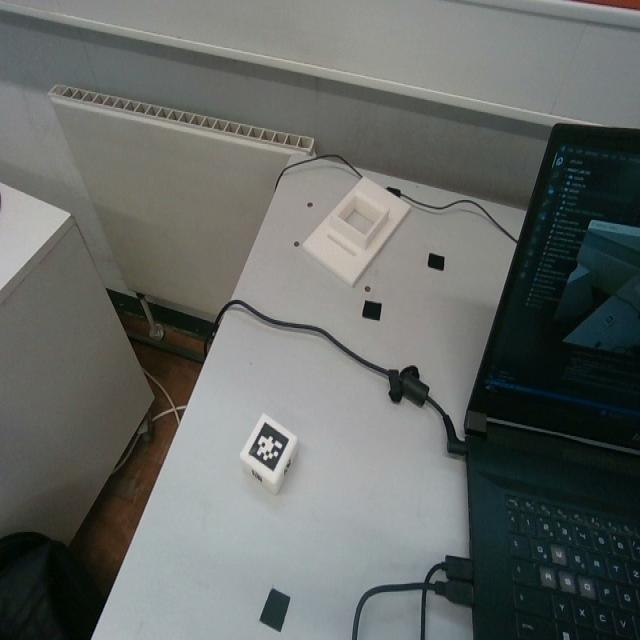Cube: (240, 409, 300, 494)
